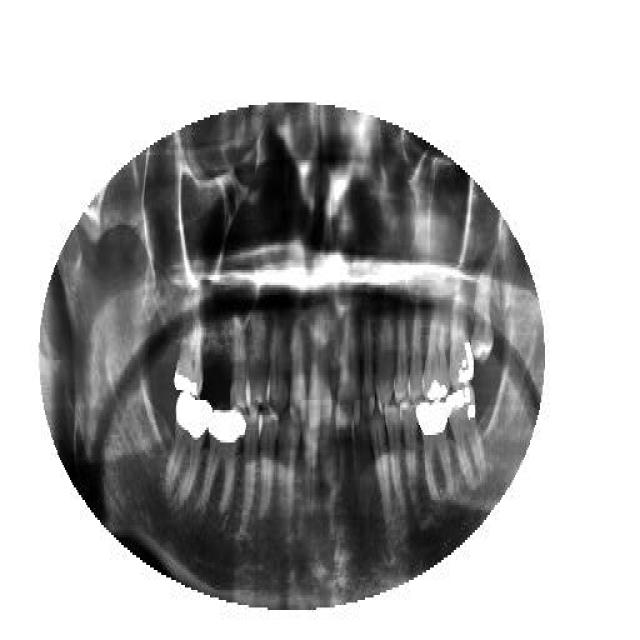Fillings: (162, 392, 212, 508), (199, 408, 245, 522), (446, 385, 485, 493), (418, 402, 452, 508), (424, 310, 451, 400), (174, 315, 204, 395), (448, 290, 472, 385)
